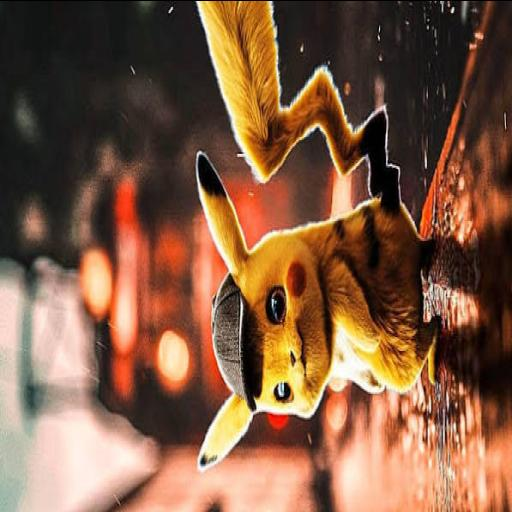Pikachu: (192, 0, 440, 469)
